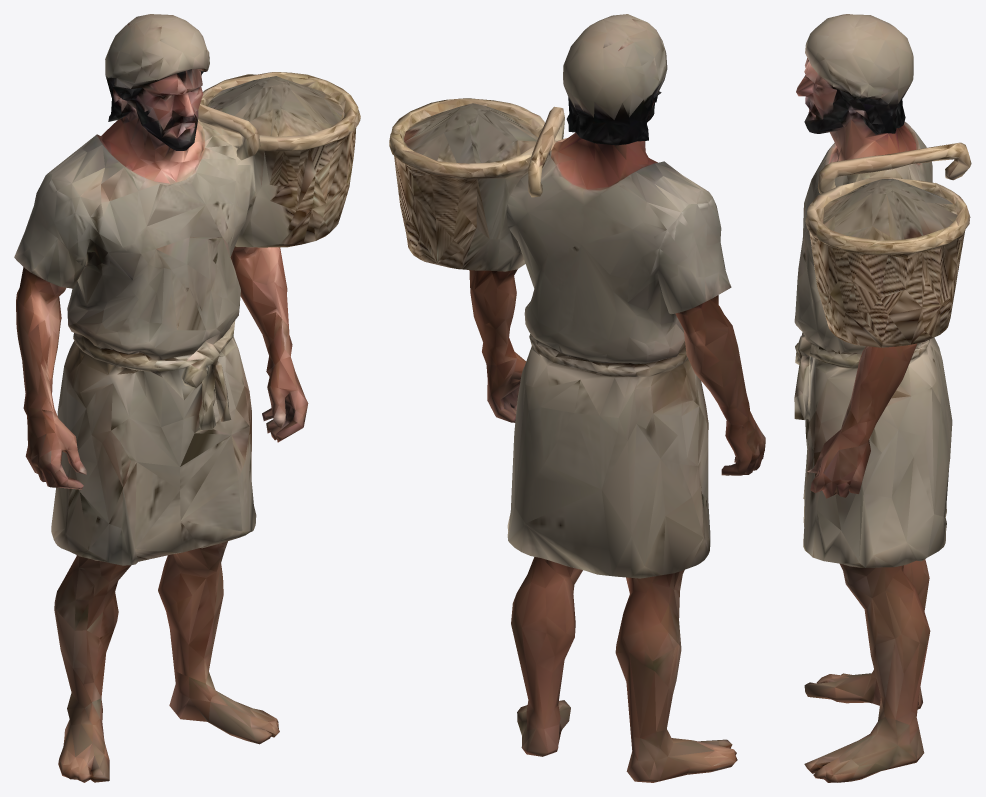
The model's file is c_schiavo1.glb.
3 views of the same model, side by side, from view 1: azimuth 30°, elevation 25°; view 2: azimuth 150°, elevation 25°; view 3: azimuth 270°, elevation 25° (orthographic).
Parts seen in each view (by area): view 1: geometry_0; view 2: geometry_0; view 3: geometry_0.
Part boxes in pixels (left/top/right/bottom): geometry_0: left=14, top=14, right=360, bottom=782; geometry_0: left=389, top=14, right=765, bottom=782; geometry_0: left=794, top=14, right=971, bottom=782.
Size of the model in its own units: 0.8336 by 1.72 by 0.3848.
1 material, 1 textured.
